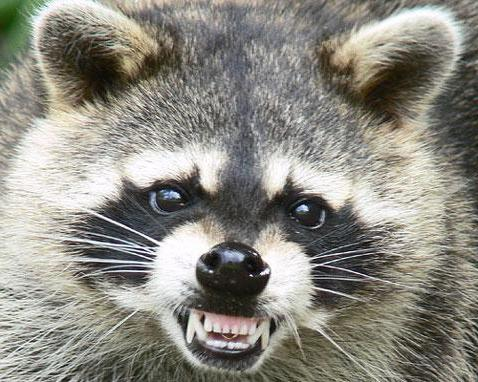raccoon: (1, 4, 478, 382)
